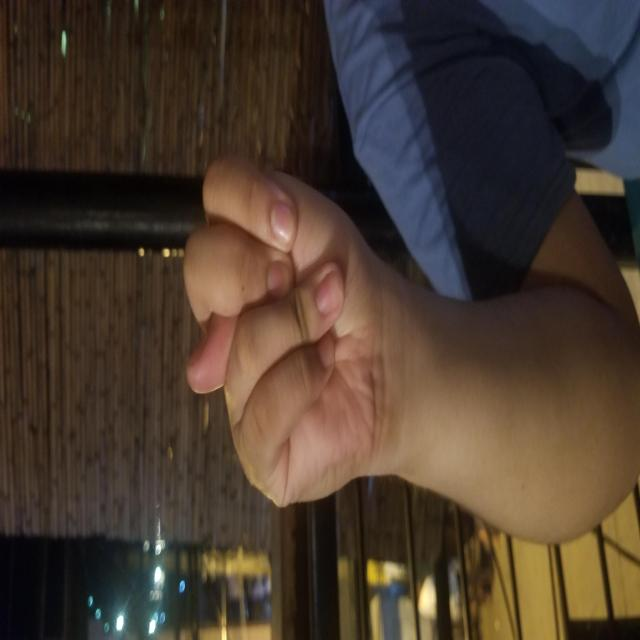N: (132, 184, 494, 377)
